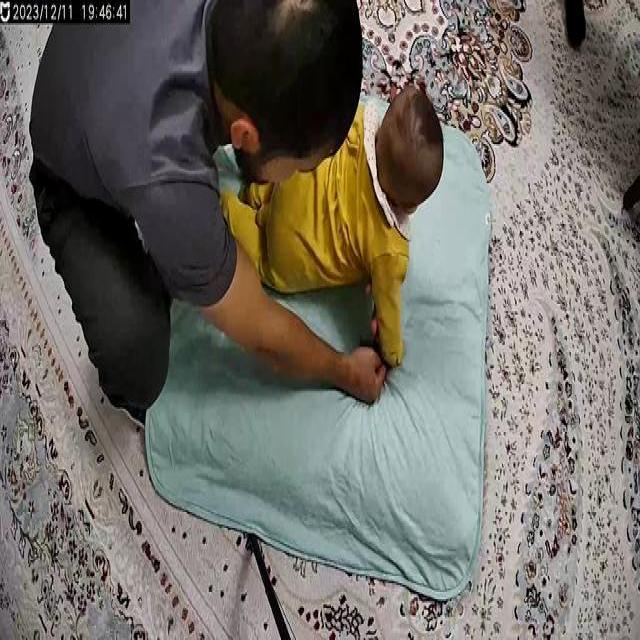baby: (208, 80, 443, 370)
